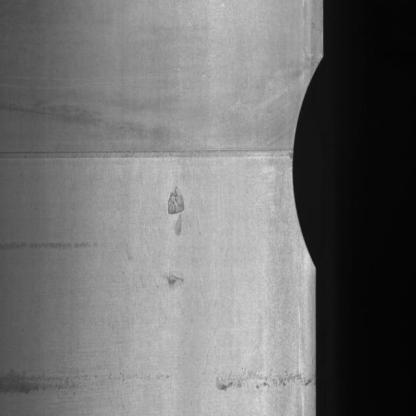crescent_gap: (286, 43, 330, 275)
welding_line: (0, 130, 296, 161)
